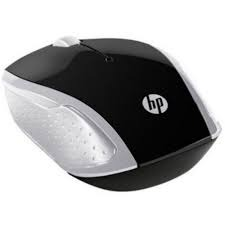mouse: (0, 39, 225, 194)
